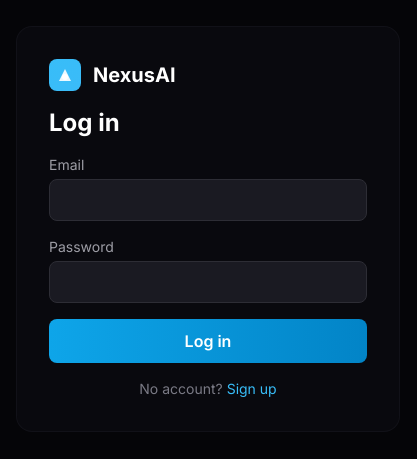
Test: Login form validation › rejects a malformed email address
Step 1. Type "not-an-email" into the field named "email" → (208,200), box [49,179,367,221]
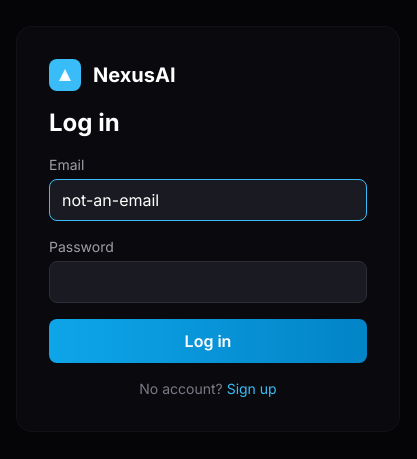
Step 2. Type "somepassword" into the password field named "password" → (208,282), box [49,261,367,303]
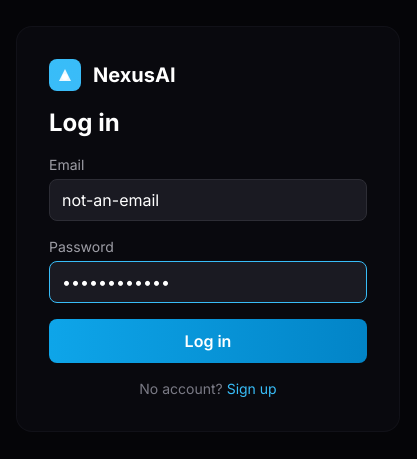
Step 3. Click the button "Log in" → (208,341), box [49,319,367,363]
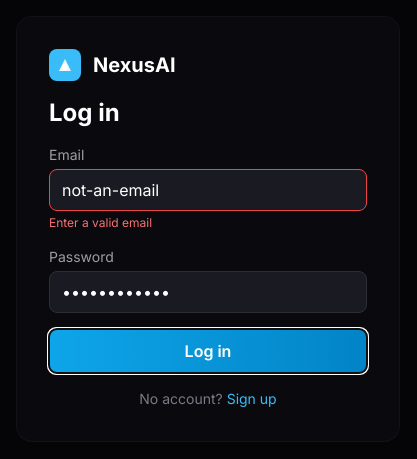
Now the text "Enter a valid email" is shown, box [49,215,152,230]
